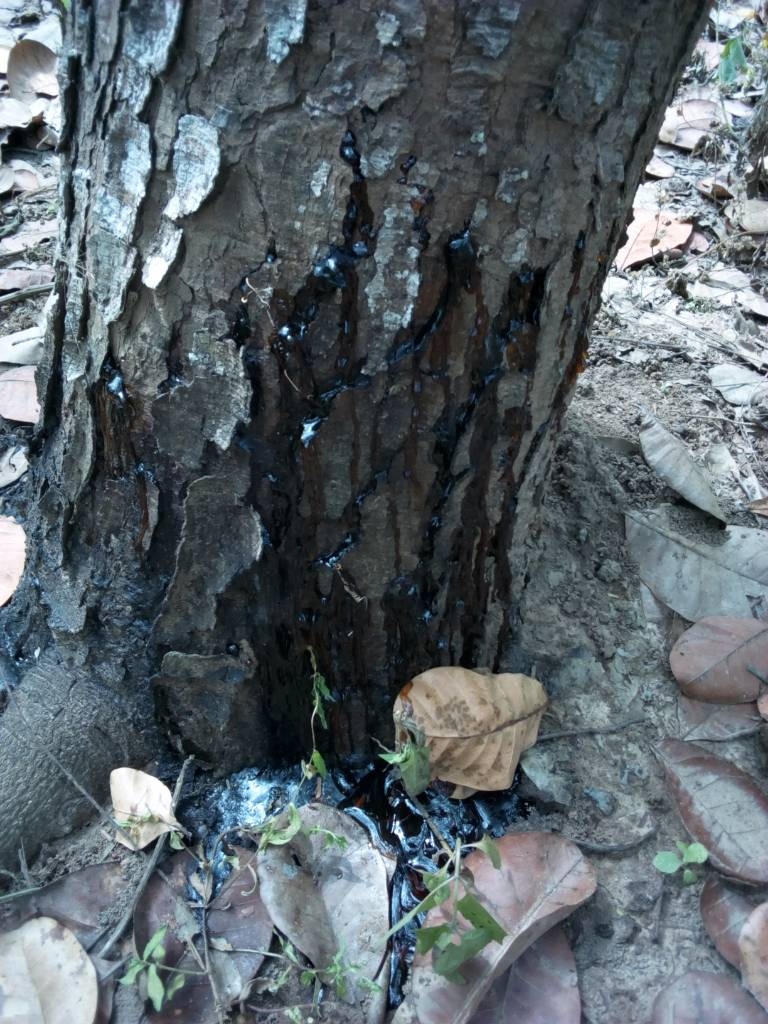Gommose: (199, 171, 572, 761)
